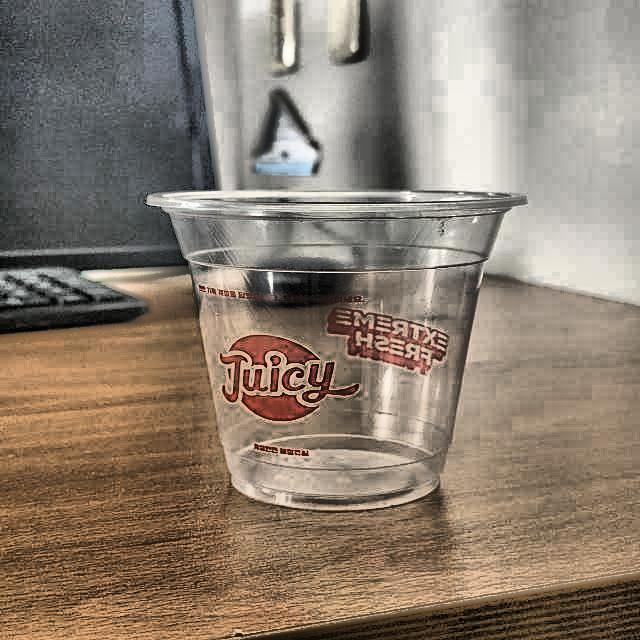plastic cup: (145, 188, 528, 514)
